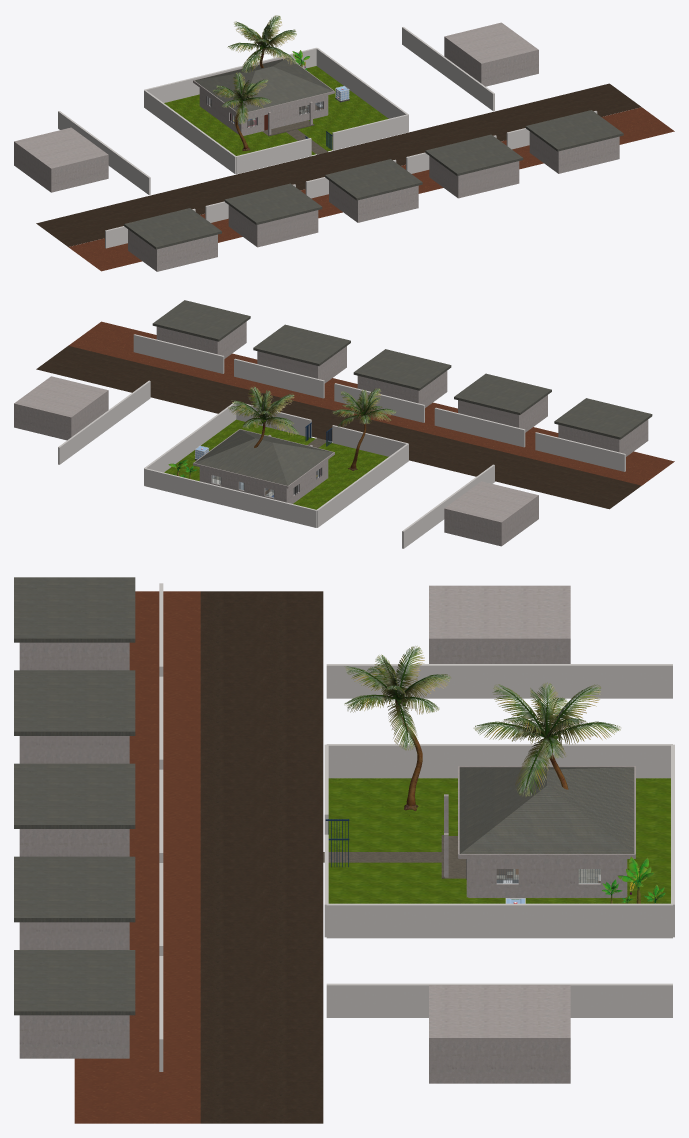
The model's file is home.v2.glb.
The picture shows the model from 3 angles, top to bottom: view 1: azimuth 30°, elevation 25°; view 2: azimuth 150°, elevation 25°; view 3: azimuth 270°, elevation 25°; orthographic projection. The views are drawn at different scales.
Parts seen in each view (by area): view 1: neighbours, street, compound_wall, plot_grass, verge, roof, Bark_Material #322_0, wall, palm, wall.002, fascia; view 2: neighbours, street, verge, compound_wall, roof, plot_grass, Bark_Material #322_0, palm, wall.001, wall.002, fascia; view 3: neighbours, street, verge, compound_wall, plot_grass, roof, Bark_Material #322_0, wall.003, palm, fascia, path, banana.
Boxes of the visible parts, x1,y1,x2,y2 form: neighbours: (14,22,623,271); street: (36,83,641,246); compound_wall: (144,47,408,174); plot_grass: (164,66,388,155); verge: (68,107,674,271); roof: (194,58,333,113); Bark_Material #322_0: (227,15,296,72); wall: (241,95,327,135); palm: (213,72,271,151); wall.002: (199,88,241,134); fascia: (193,57,334,115); neighbours: (14,300,652,548); street: (36,345,641,509); verge: (68,321,674,485); compound_wall: (144,401,408,527); roof: (194,429,333,485); plot_grass: (164,419,388,509); Bark_Material #322_0: (228,386,298,447); palm: (332,388,396,471); wall.001: (200,467,286,502); wall.002: (286,460,328,503); fascia: (193,429,334,488); neighbours: (14,577,672,1083); street: (200,591,323,1123); verge: (74,591,200,1123); compound_wall: (324,744,674,938); plot_grass: (328,778,670,903); roof: (459,767,634,853); Bark_Material #322_0: (473,682,620,796); wall.003: (468,859,625,897); palm: (344,646,450,810); fascia: (458,766,635,858); path: (323,852,441,862); banana: (602,856,665,903).
Size of the model in its own units: 80 by 12.45 by 41.98.
59 materials, 23 textured.
